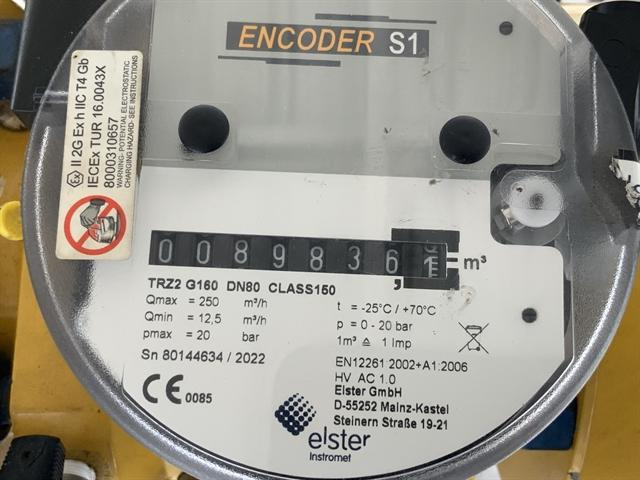analog_dial: (142, 207, 466, 293)
